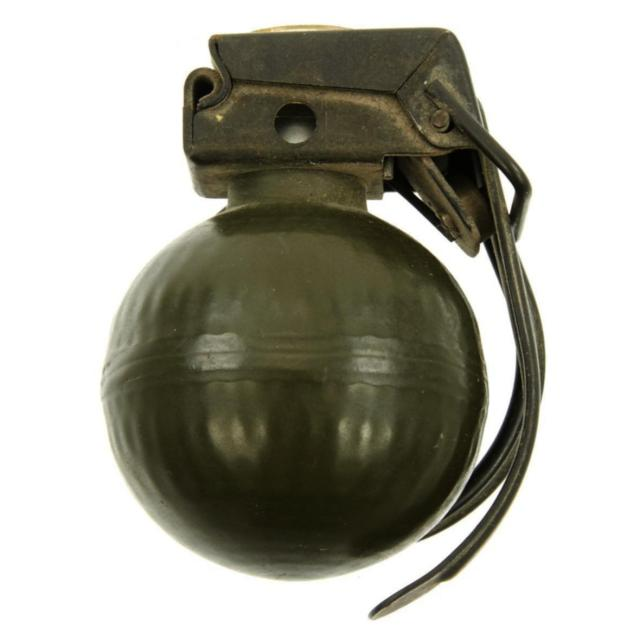grenade: (100, 26, 547, 620)
